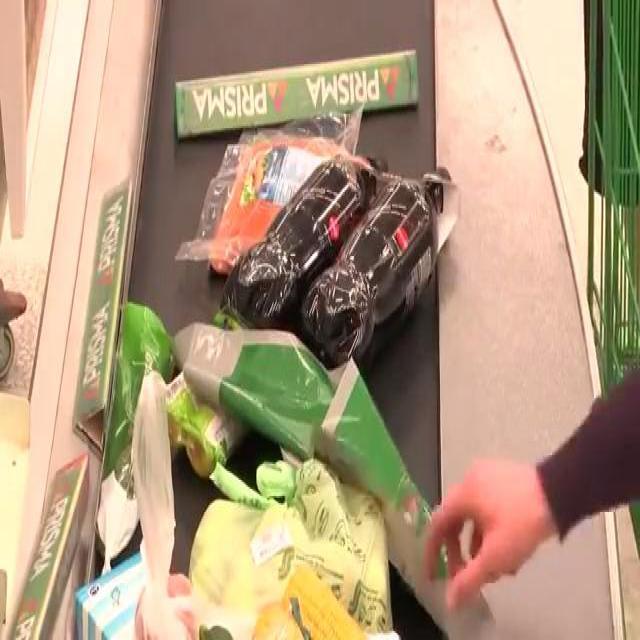beverage: (302, 162, 458, 354), (230, 151, 390, 317)
food-box: (202, 130, 384, 276), (152, 304, 276, 475), (235, 559, 381, 637)
utility-box: (68, 534, 222, 638)
vegetable: (132, 554, 220, 634)
